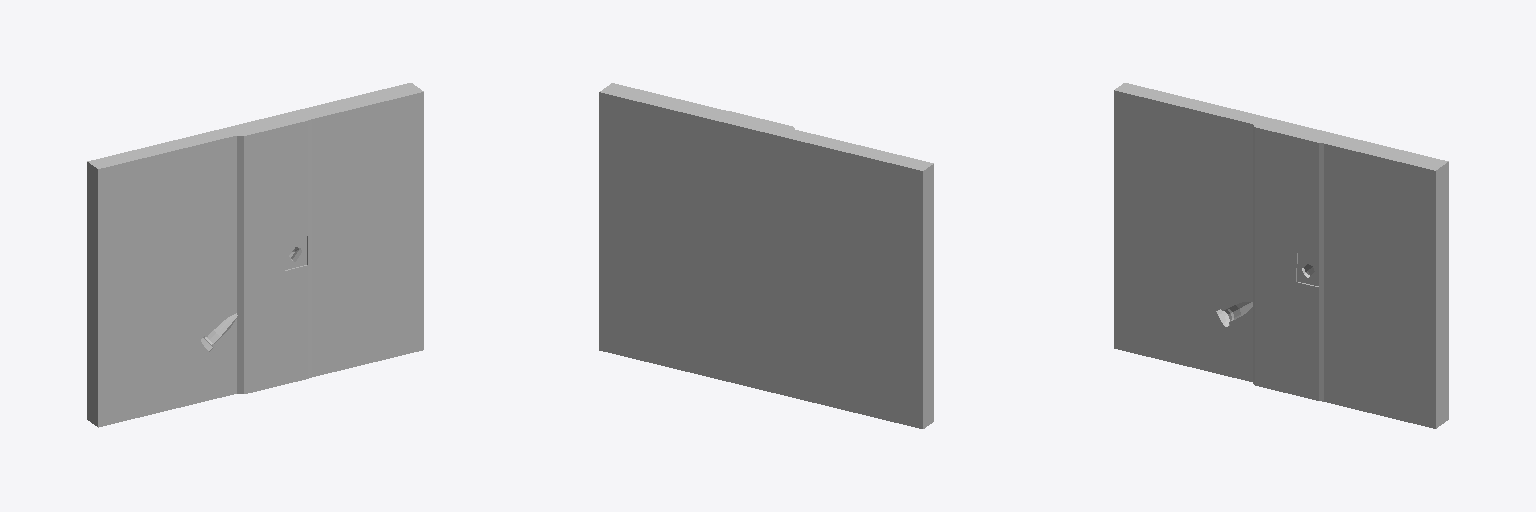
File: woods_0002_death_0000.obj
3 views of the same model, side by side, from view 1: azimuth 30°, elevation 25°; view 2: azimuth 150°, elevation 25°; view 3: azimuth 330°, elevation 25° (orthographic).
Visible parts, largest first — view 1: DEATH.002_Cube.3882; view 2: DEATH.002_Cube.3882; view 3: DEATH.002_Cube.3882.
Part boxes in pixels (bbox=[...]): DEATH.002_Cube.3882: bbox=[87, 83, 423, 427]; DEATH.002_Cube.3882: bbox=[599, 83, 933, 428]; DEATH.002_Cube.3882: bbox=[1114, 83, 1448, 428].
Bounding box in the file's own units: 1283 × 977 × 91.34.